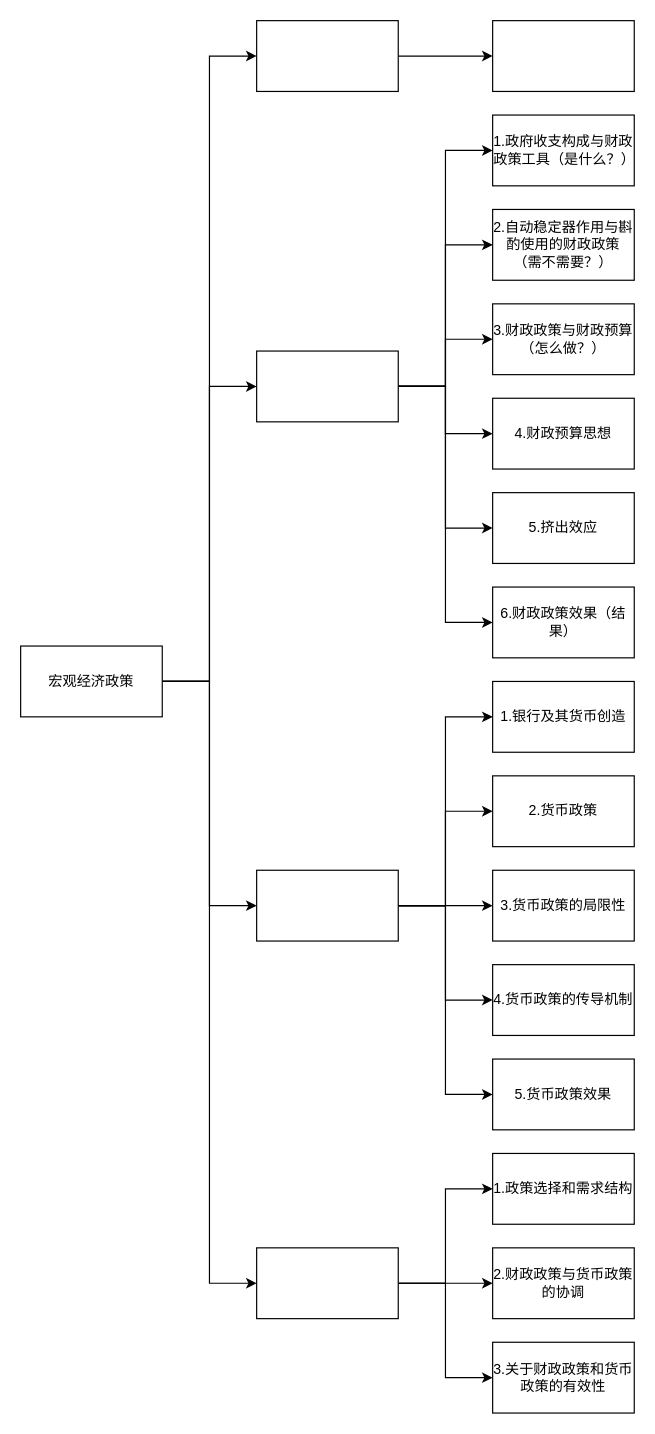
The diagram is 655 pixels wide and 1434 high, and some of its shapes have lost their labels. The shapes that lost their labels are listed below. From the top down, each one's box as (x1, y1, x2, y2) in pixels, then its label:
(255, 19, 398, 91): 1.宏观经济政策的主要目标
(255, 350, 398, 422): 2.财政政策
(255, 869, 398, 941): 3.货币政策
(255, 1247, 398, 1319): 4.综合的宏观经济政策
